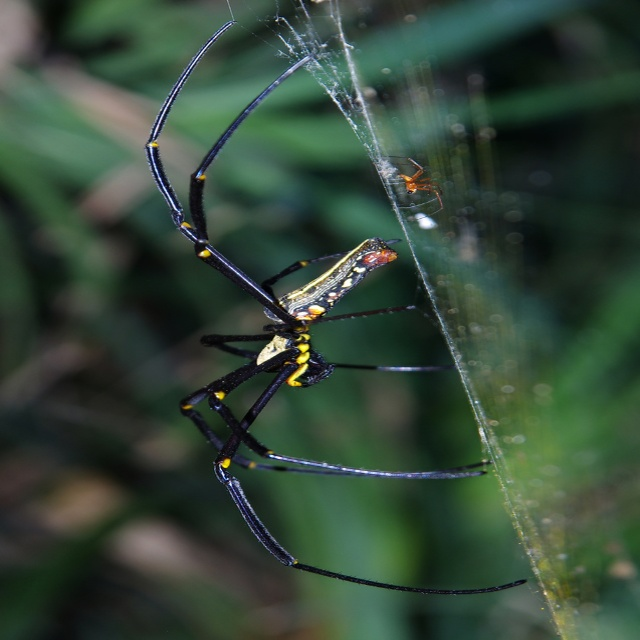Spider: (144, 20, 527, 595), (384, 154, 447, 220)
